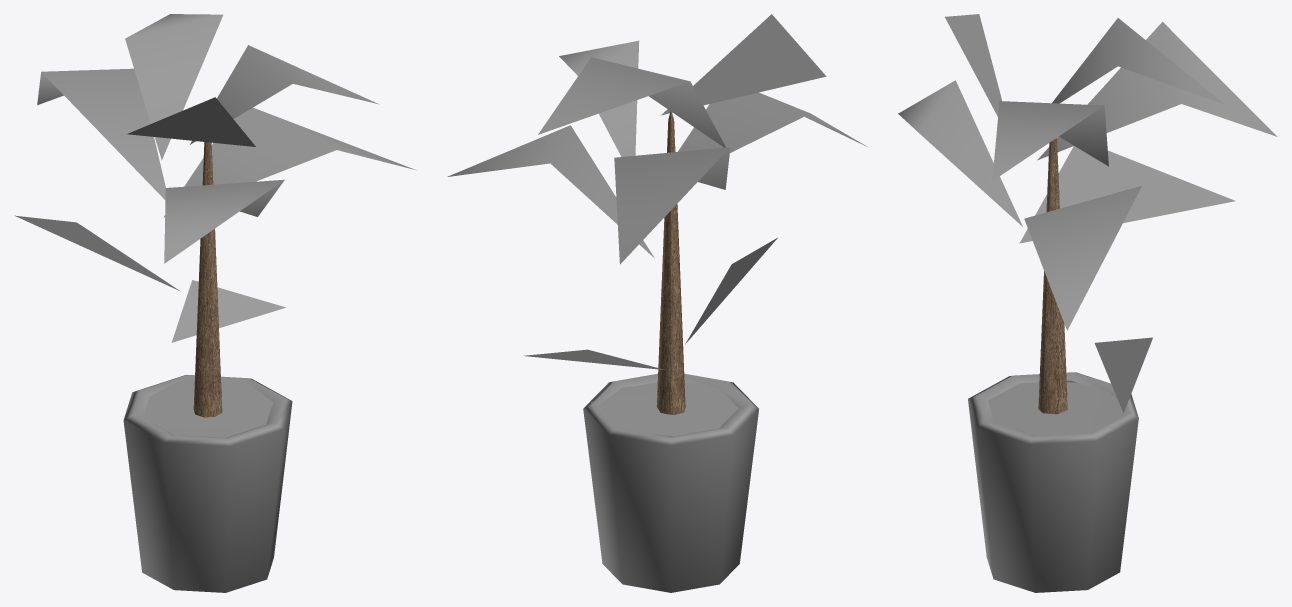
The model's file is Petra_leaf_lod2.fbx.
3 views of the same model, side by side, from view 1: azimuth 30°, elevation 25°; view 2: azimuth 150°, elevation 25°; view 3: azimuth 270°, elevation 25° (orthographic).
Parts seen in each view (by area): view 1: Petra_leaf_lod2; view 2: Petra_leaf_lod2; view 3: Petra_leaf_lod2.
Boxes of the visible parts, box(x1,y1,x2,y2) form: Petra_leaf_lod2: box(15, 14, 416, 592); Petra_leaf_lod2: box(447, 14, 867, 592); Petra_leaf_lod2: box(898, 14, 1277, 592).
Size of the model in its own units: 39.71 by 59.02 by 38.28.
